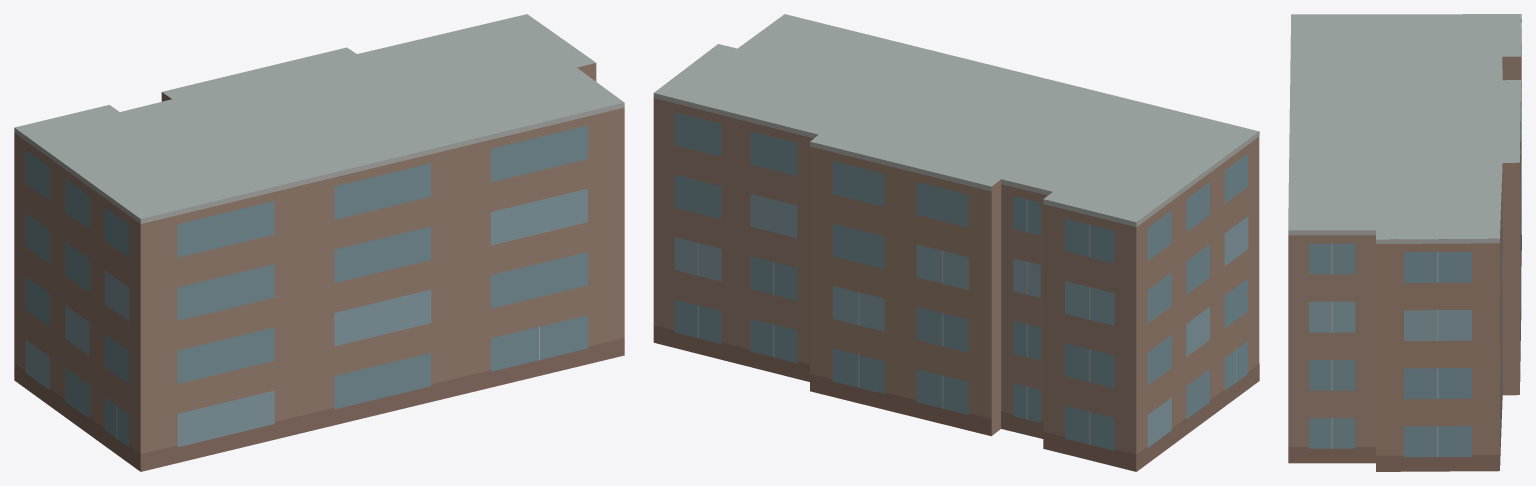
File: survey-upis-32632281.glb
The picture shows the model from 3 angles, left to right: view 1: azimuth 30°, elevation 25°; view 2: azimuth 150°, elevation 25°; view 3: azimuth 270°, elevation 25°; orthographic projection. The views are drawn at different scales.
Visible parts, largest first — view 1: survey-upis-32632281.tmp; view 2: survey-upis-32632281.tmp; view 3: survey-upis-32632281.tmp.
Part boxes in pixels (left/top/right/bottom): survey-upis-32632281.tmp: left=14, top=14, right=624, bottom=471; survey-upis-32632281.tmp: left=653, top=14, right=1259, bottom=471; survey-upis-32632281.tmp: left=1288, top=14, right=1521, bottom=471.
Bounding box in the file's own units: 25.82 × 12.4 × 11.31.
